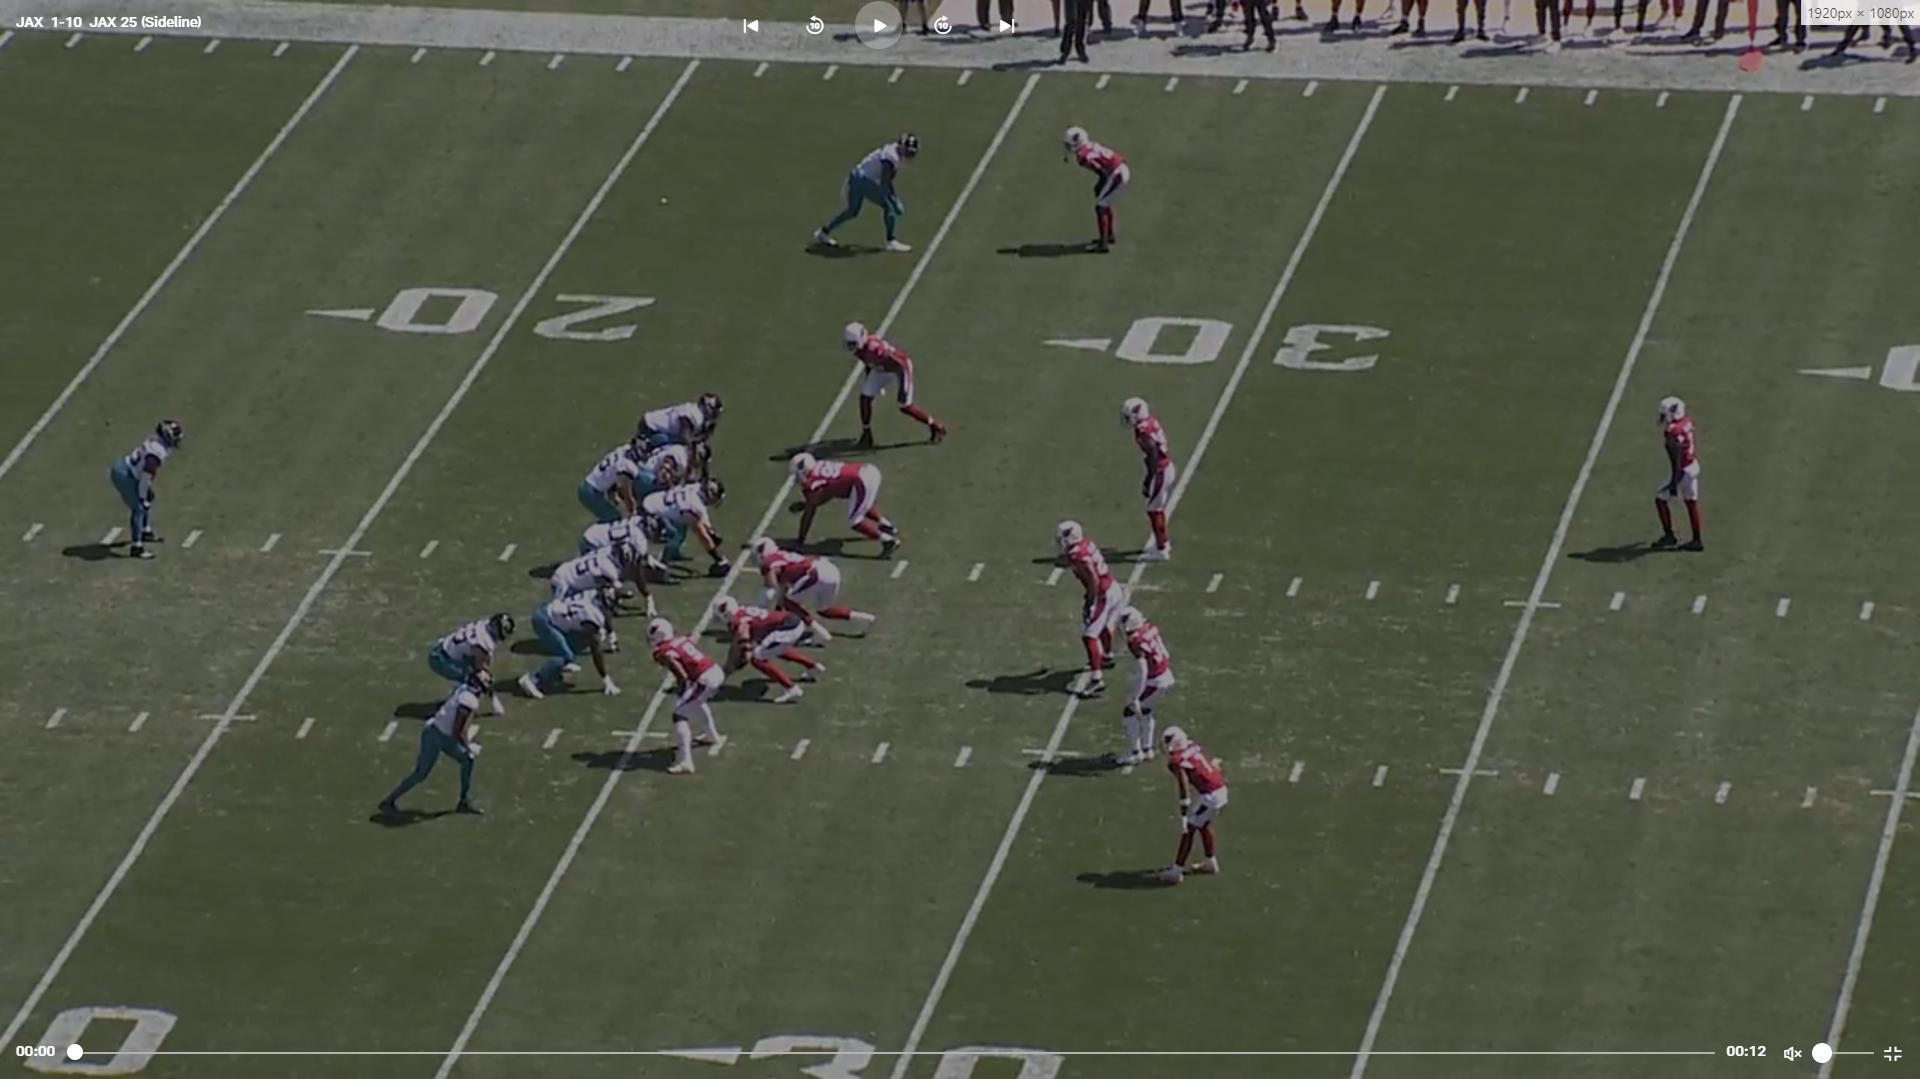player: (368, 671, 497, 830), (808, 123, 927, 261), (836, 317, 949, 452), (641, 614, 726, 786), (751, 536, 880, 645), (712, 594, 827, 709), (525, 582, 633, 702), (786, 452, 904, 560), (1051, 519, 1120, 697), (1161, 724, 1234, 892), (110, 415, 193, 559), (422, 608, 521, 718), (1114, 392, 1174, 571), (1650, 392, 1714, 559), (545, 543, 638, 657), (1111, 597, 1173, 761), (632, 477, 731, 578), (1058, 120, 1129, 258), (580, 511, 666, 614), (631, 393, 725, 472), (573, 432, 646, 525), (623, 442, 703, 498)
